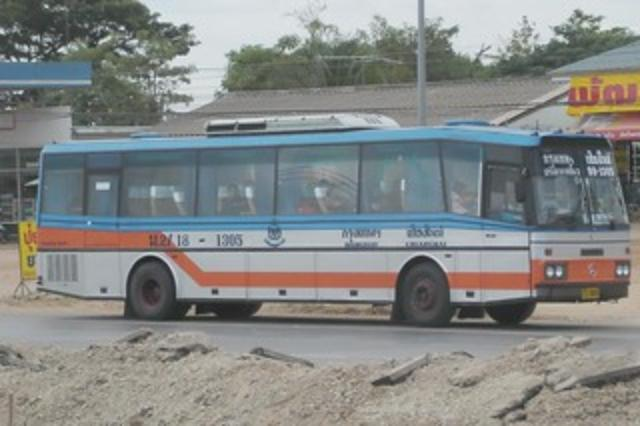bus: (32, 128, 630, 326)
